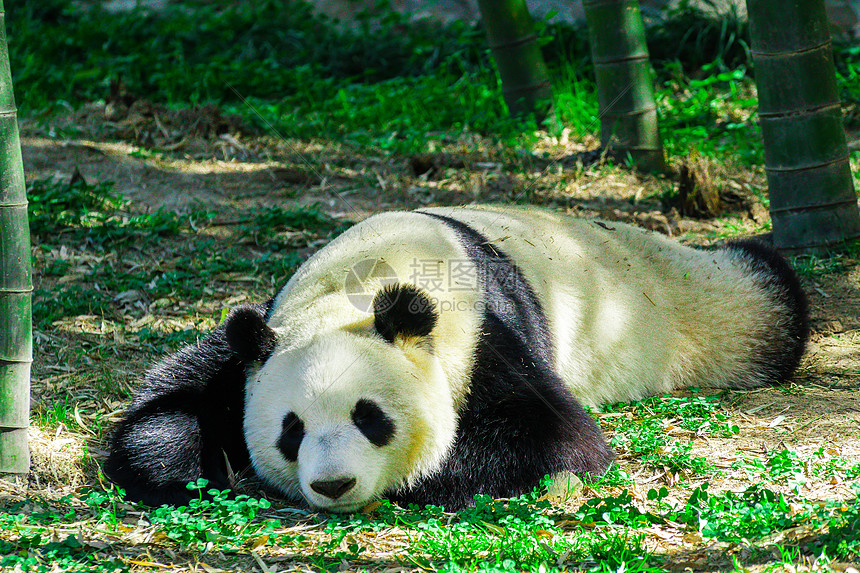panda: (114, 171, 816, 500)
